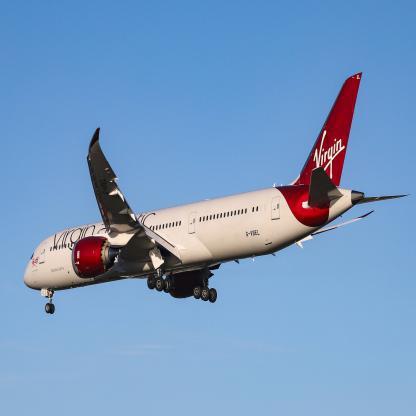CIV_Plane: (21, 69, 412, 320)
